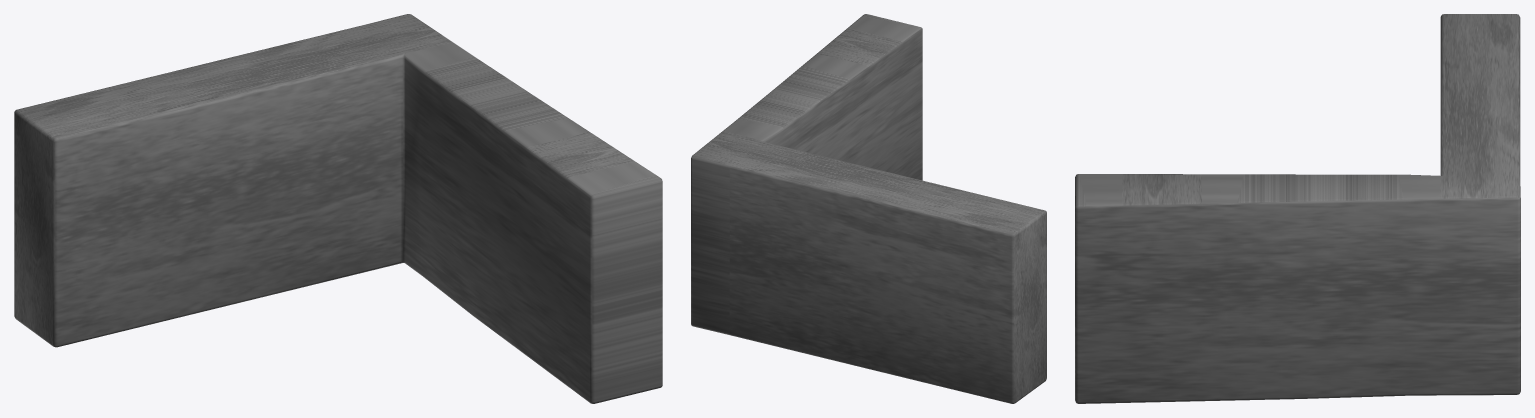
Rendered from RockwallCorner_Cvl_12-10-25.fbx.
3 renders of one model, left to right at view 1: azimuth 30°, elevation 25°; view 2: azimuth 150°, elevation 25°; view 3: azimuth 270°, elevation 25°, orthographic. The views are drawn at different scales.
Parts seen in each view (by area): view 1: Wall corner; view 2: Wall corner; view 3: Wall corner.
Part boxes in pixels (left/top/right/bottom): Wall corner: left=14, top=14, right=662, bottom=403; Wall corner: left=691, top=14, right=1046, bottom=403; Wall corner: left=1075, top=14, right=1520, bottom=403.
Size of the model in its own units: 258 by 124 by 251.
Materials: 1 (1 with a texture image).
